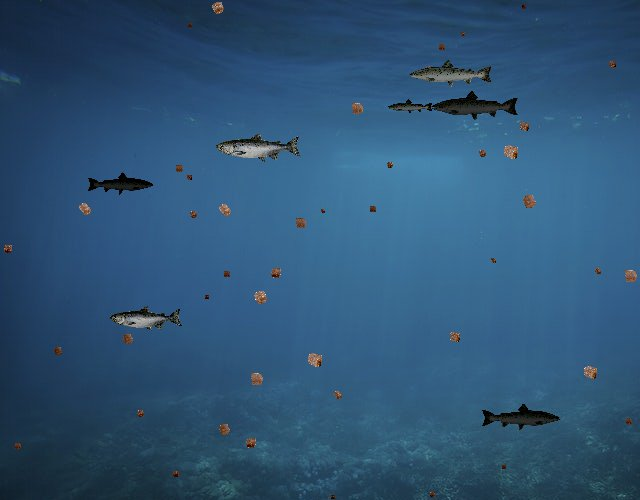Fish: (431, 89, 521, 122), (408, 58, 494, 89), (216, 132, 302, 163), (481, 403, 562, 432), (111, 305, 184, 332), (86, 172, 154, 196), (387, 98, 434, 115)
Pellet: (243, 366, 270, 393), (345, 96, 370, 121), (240, 432, 262, 454), (366, 202, 380, 216), (183, 171, 196, 184), (426, 488, 439, 500), (458, 28, 468, 38)
